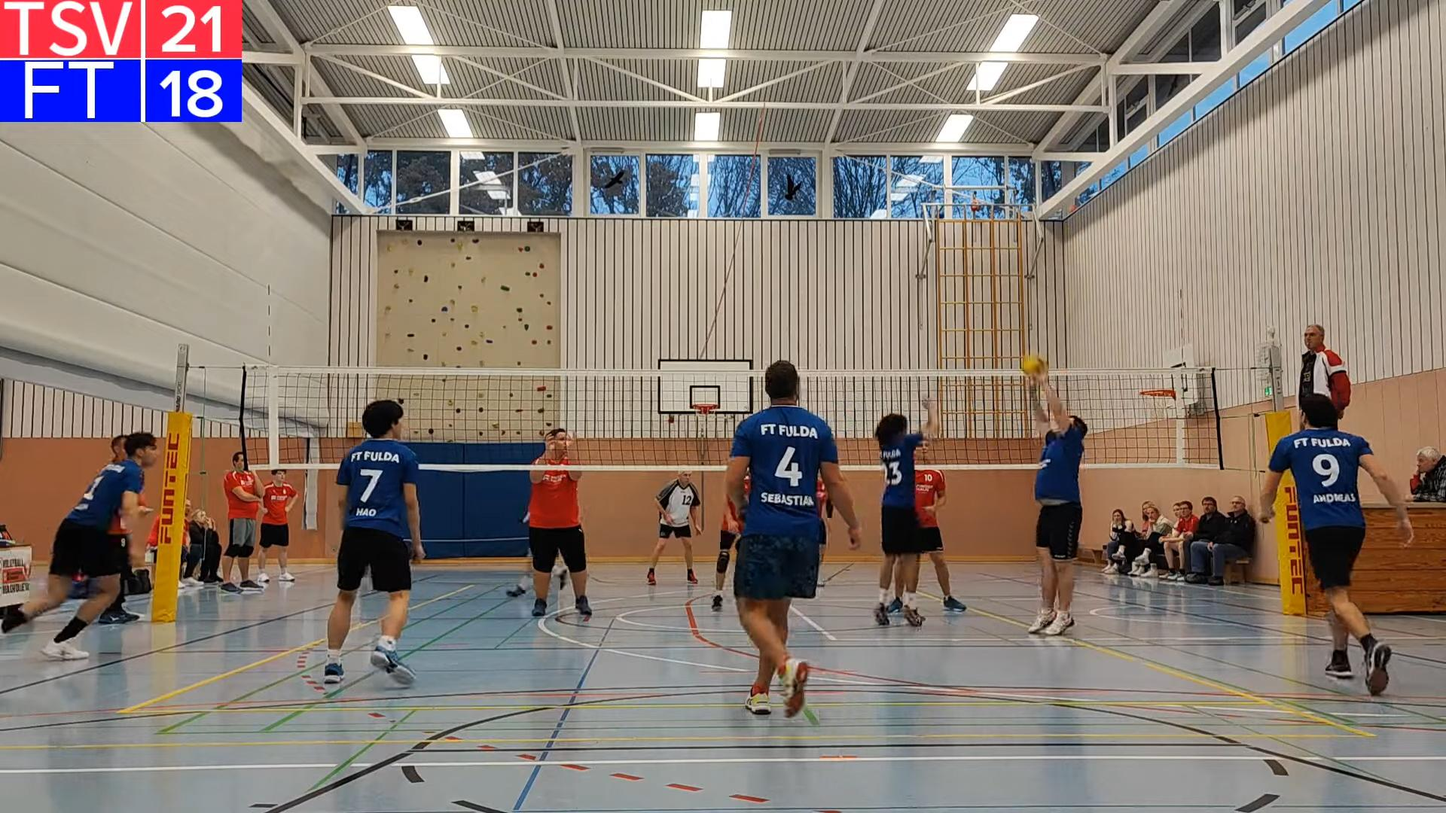alzata: (1022, 375, 1092, 637)
